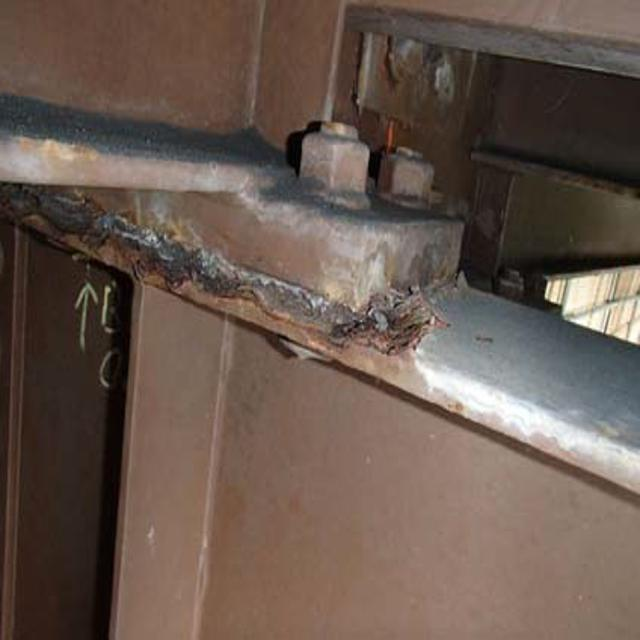corrosion: (29, 157, 457, 374)
